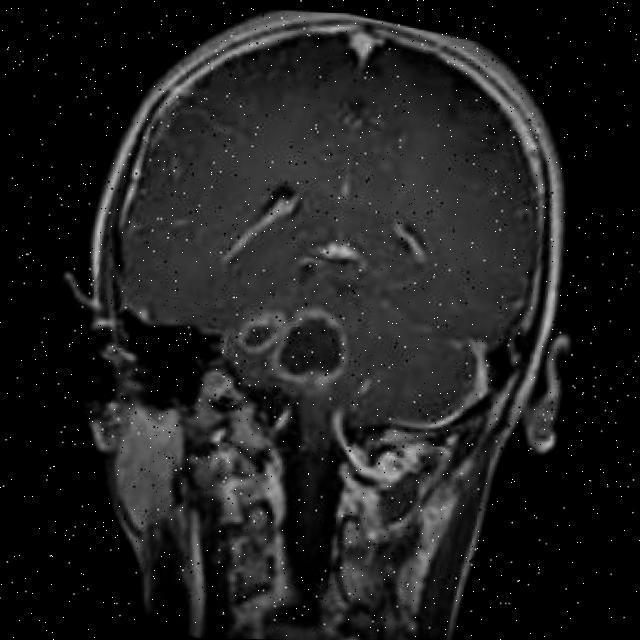EMCI: (213, 248, 389, 391)
